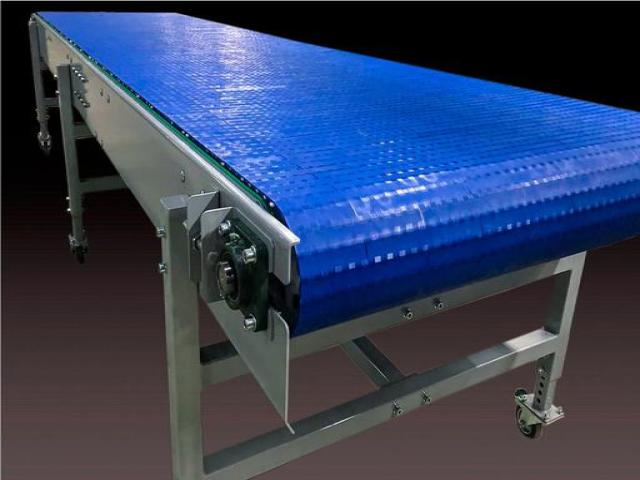conveyor: (24, 9, 638, 479)
